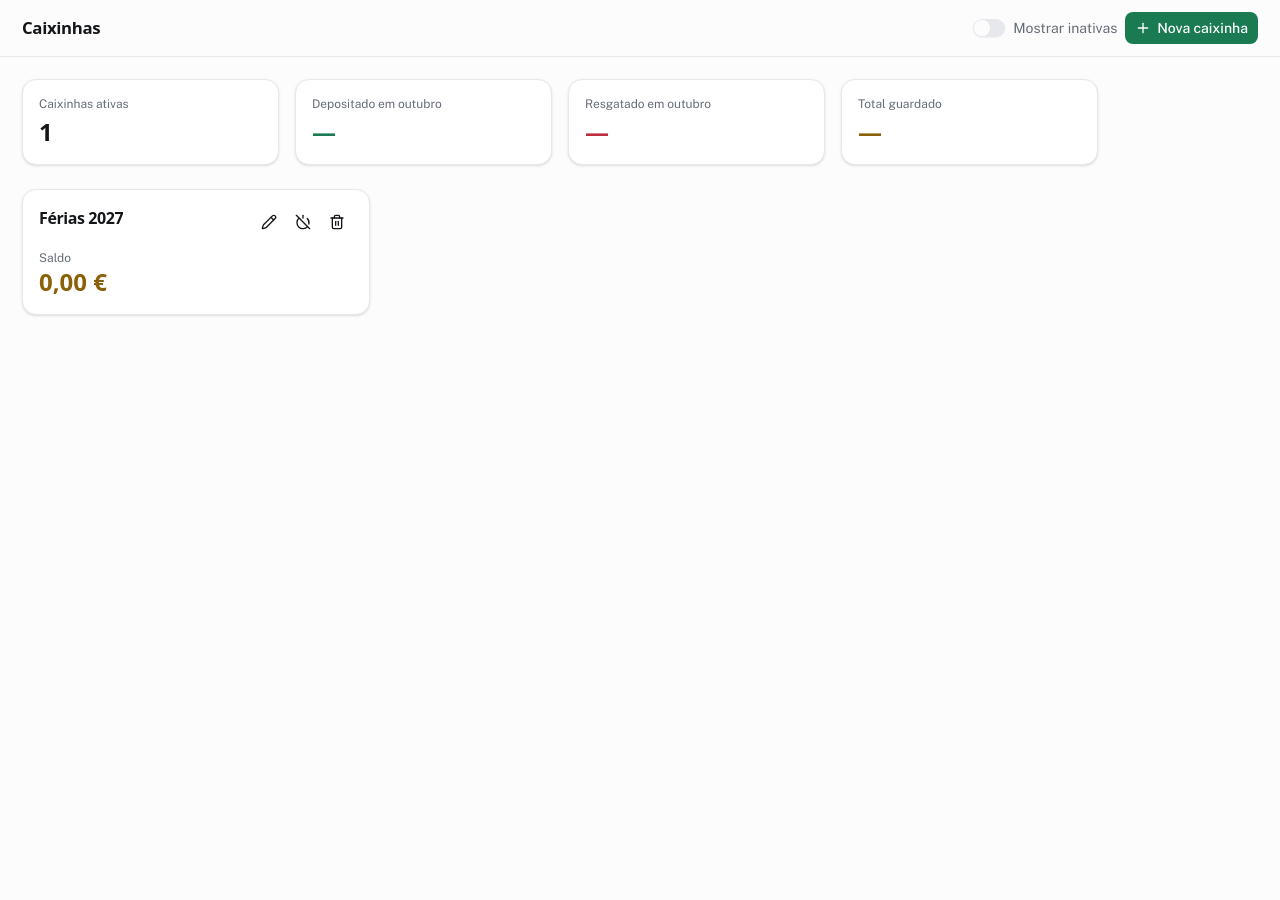
Test: CashboxesPage › prefills the edit form and updates the initial balance
Expected: the heading "Férias 2027" is shown, [39,206,123,230]
Click the button named "Editar" at [269, 222], box [253,206,285,238]
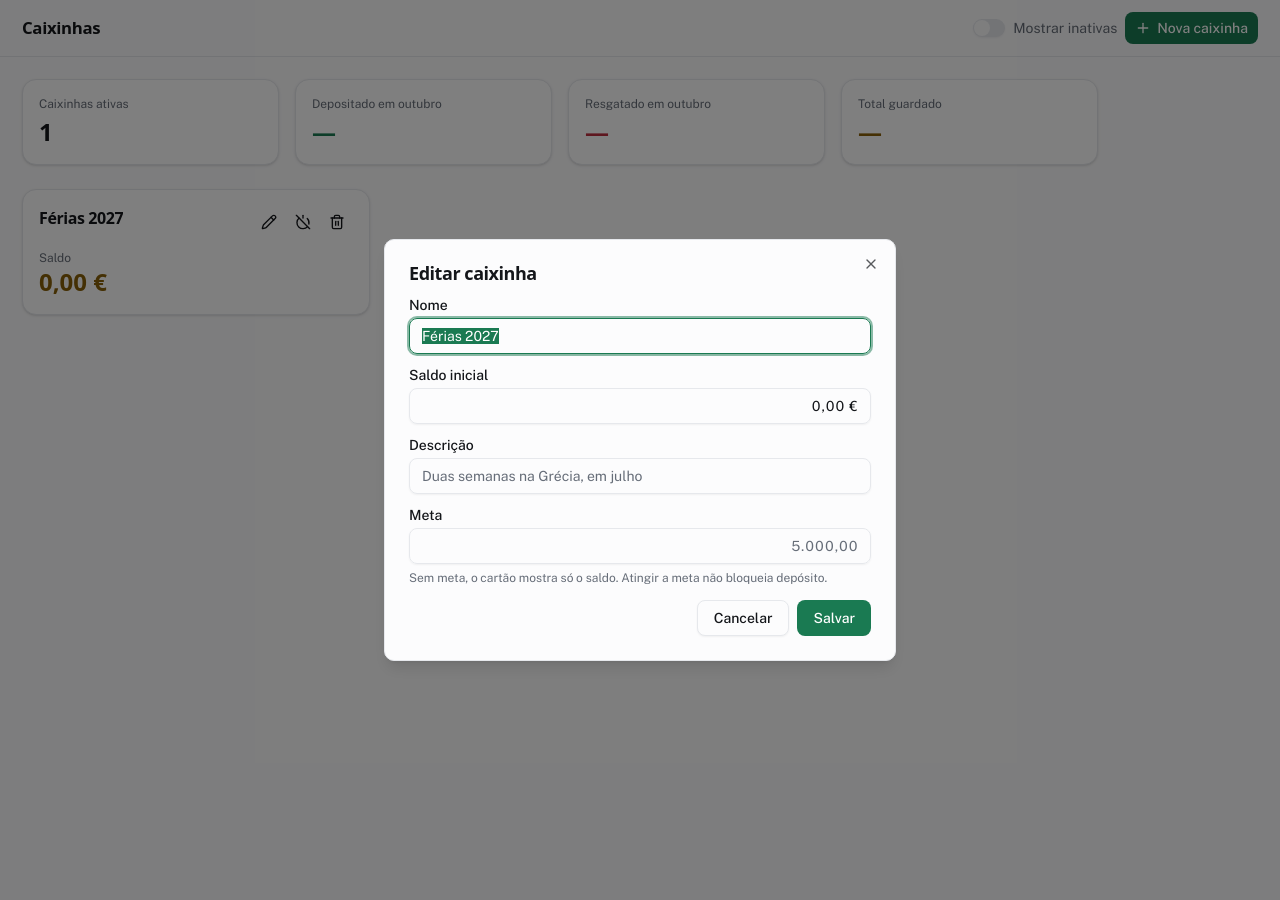
Expected: the field labelled "Nome" holds "Férias 2027"
Expected: the field labelled "Saldo inicial" holds "0,00 €", [409,388,871,424]
Type "Férias 2028" into the field labelled "Nome" at [640, 336], box [409,318,871,354]
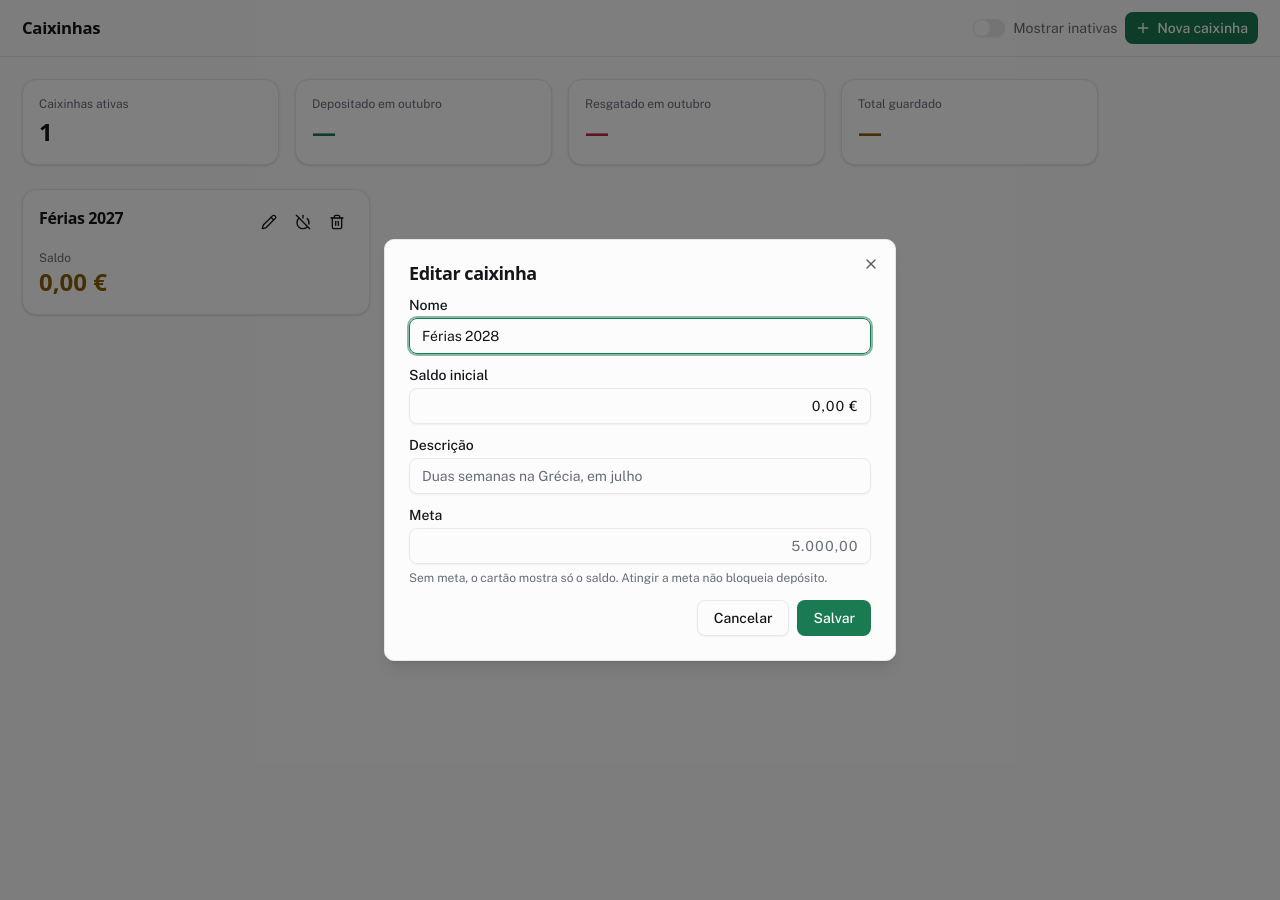
Replace the text in the field labelled "Saldo inicial" with "250,00" at [640, 406], box [409,388,871,424]
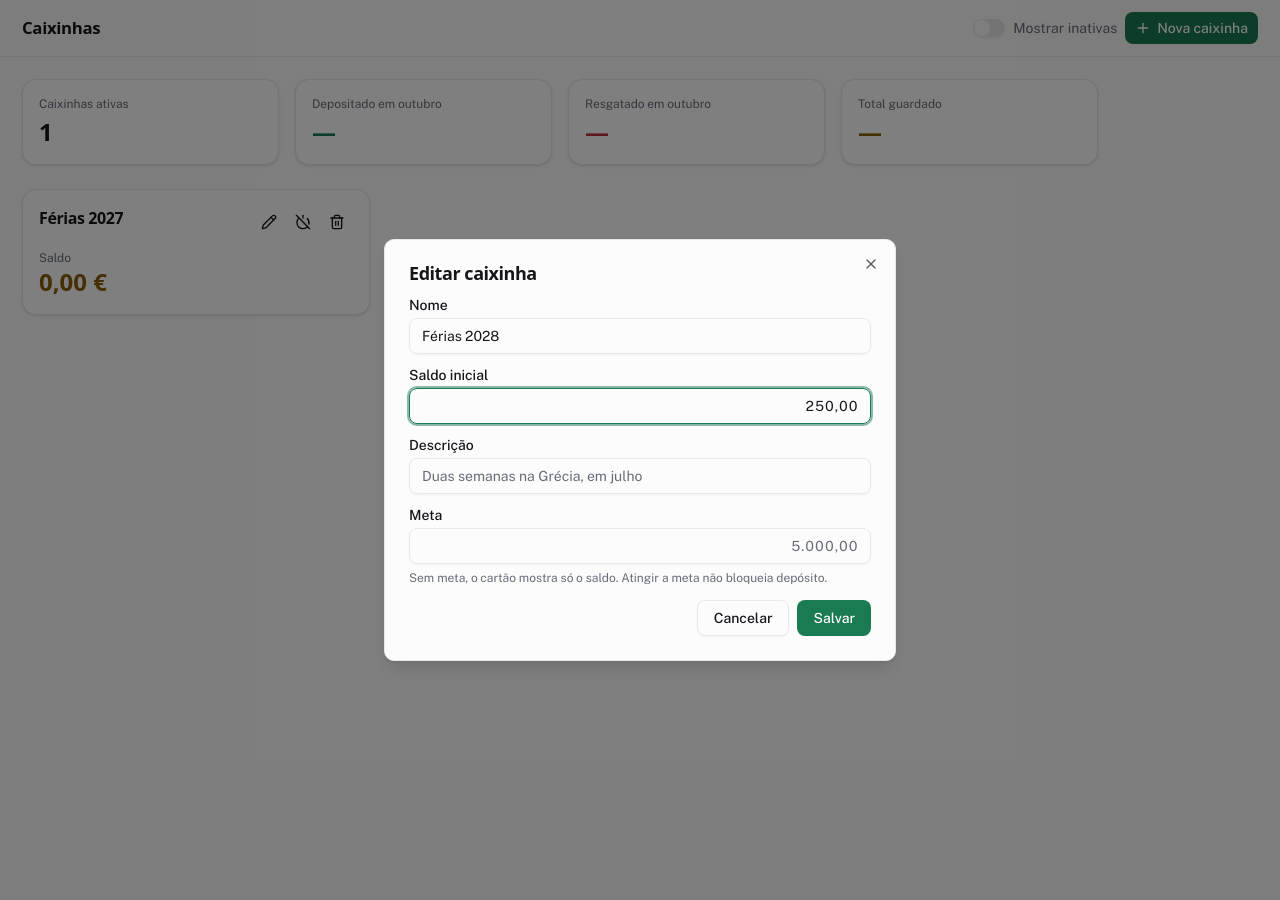
Click the button "Salvar" at [834, 618], box [798,600,871,636]
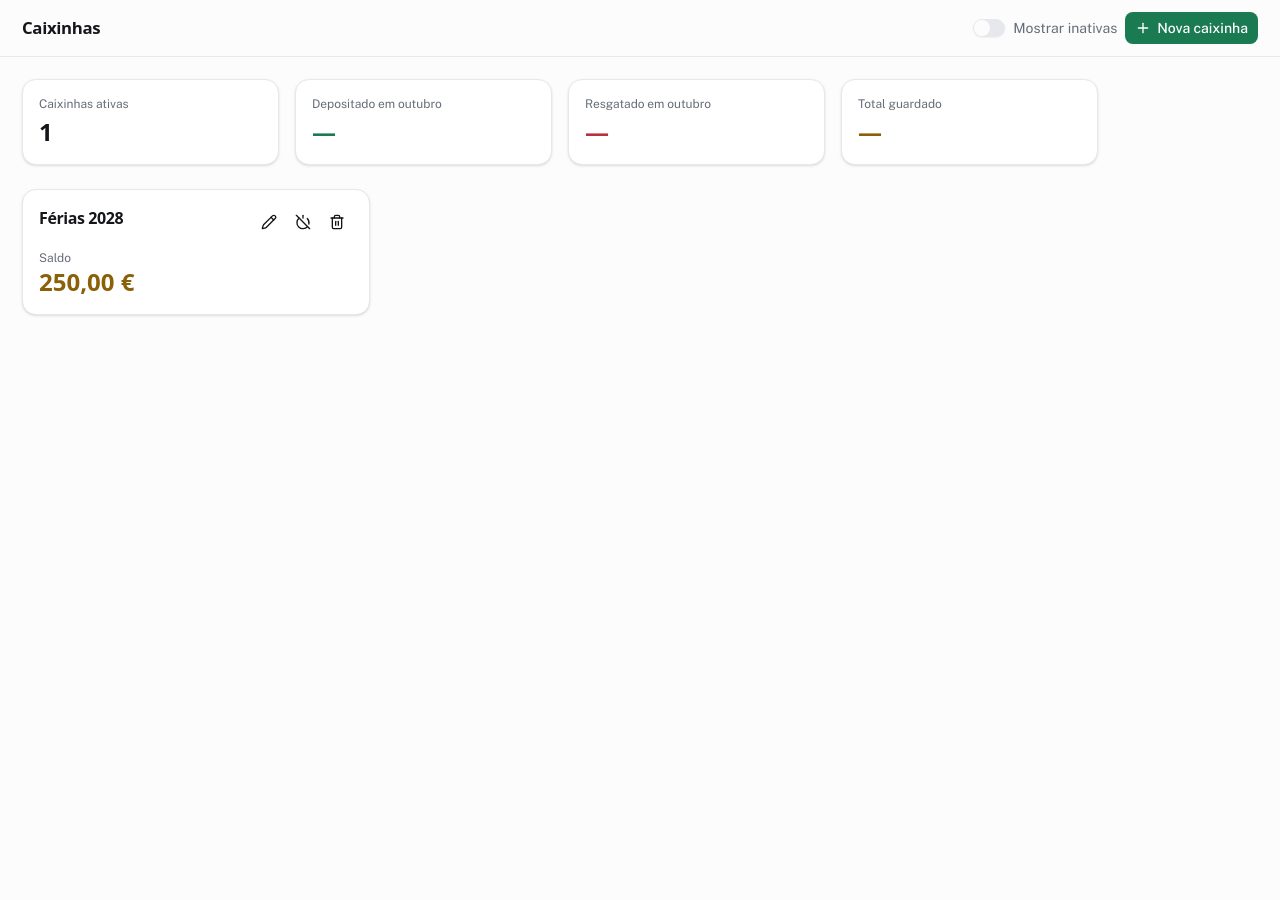
Expected: the heading "Férias 2028" is shown, [39,206,123,230]
Expected: the text "250,00 €" is shown, [39,265,134,298]
